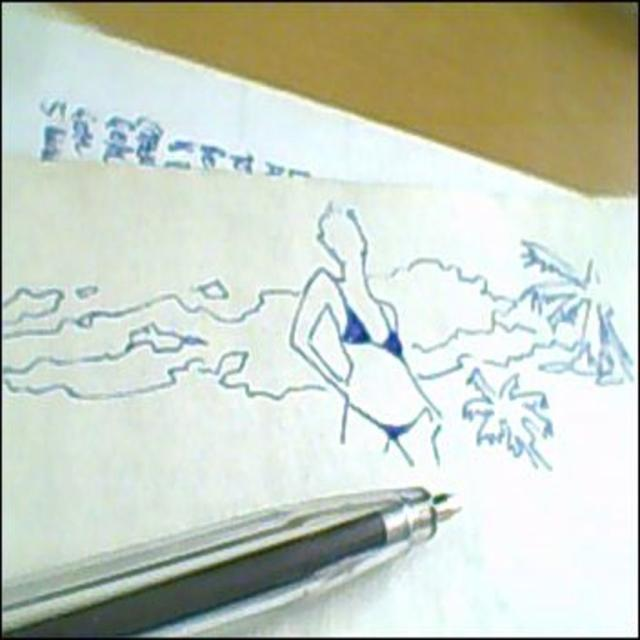pen: (0, 484, 464, 638)
